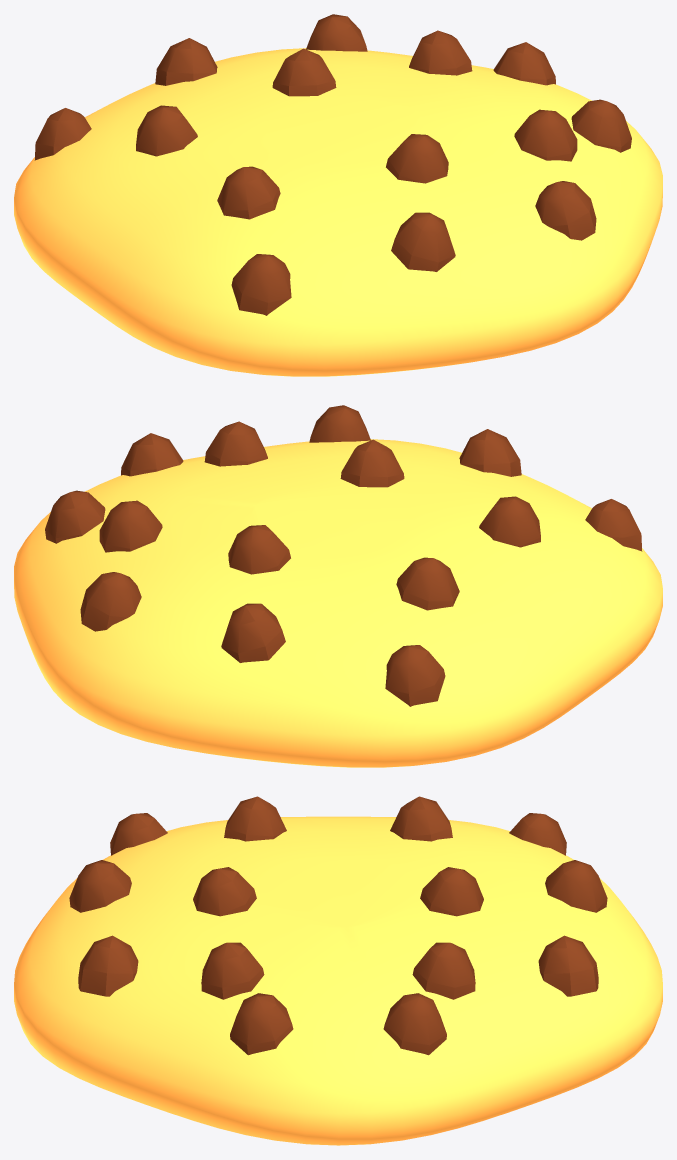
The picture shows the model from 3 angles, top to bottom: view 1: azimuth 30°, elevation 25°; view 2: azimuth 150°, elevation 25°; view 3: azimuth 270°, elevation 25°; orthographic projection.
Parts seen in each view (by area): view 1: Cookie-whole; view 2: Cookie-whole; view 3: Cookie-whole.
Boxes of the visible parts, box(x1,y1,x2,y2) form: Cookie-whole: box(14, 14, 662, 376); Cookie-whole: box(14, 405, 662, 767); Cookie-whole: box(14, 796, 662, 1145).
Bounding box in the file's own units: 0.0237 × 0.00625 × 0.0239.
